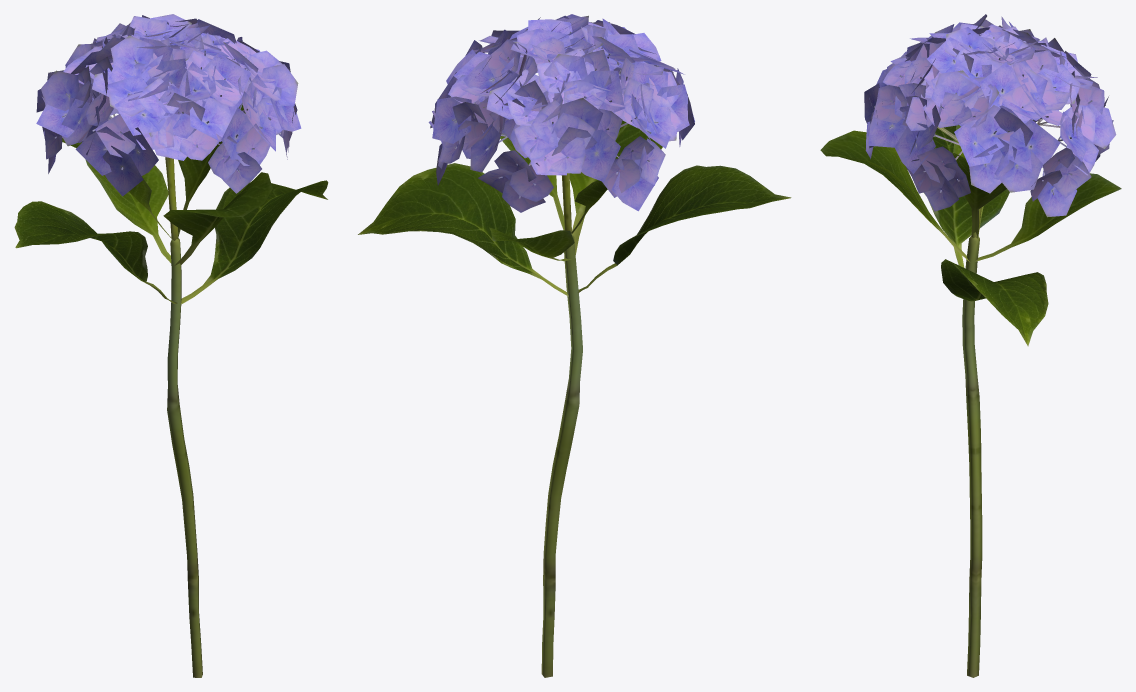
Rendered from Hydrangea_OG_normal_purple.glb.
3 views of the same model, side by side, from view 1: azimuth 30°, elevation 25°; view 2: azimuth 150°, elevation 25°; view 3: azimuth 270°, elevation 25° (orthographic). The views are drawn at different scales.
Parts seen in each view (by area): view 1: Hydrangea; view 2: Hydrangea; view 3: Hydrangea.
Boxes of the visible parts, x1,y1,x2,y2 form: Hydrangea: (14,14,328,677); Hydrangea: (358,14,791,677); Hydrangea: (820,14,1121,677).
Bounding box in the file's own units: 1.38 × 2.31 × 1.
Materials: 1 (1 with a texture image).
